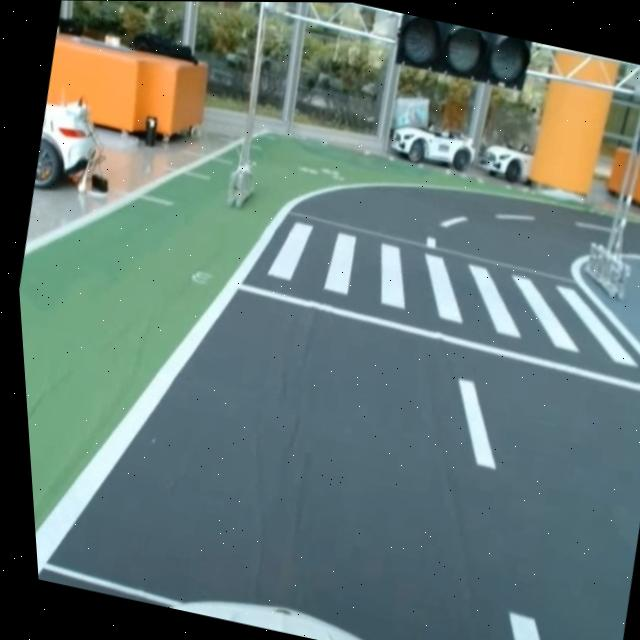traffic-light: (386, 12, 539, 96)
